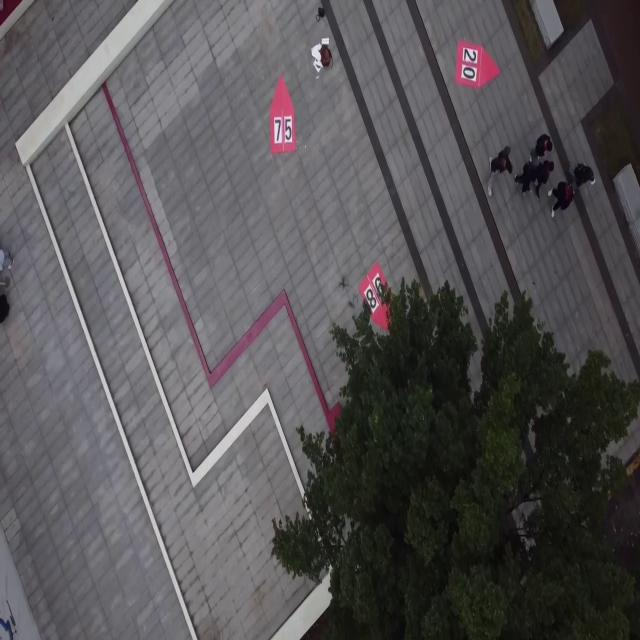-sign-: (260, 70, 300, 164), (448, 35, 506, 96)
